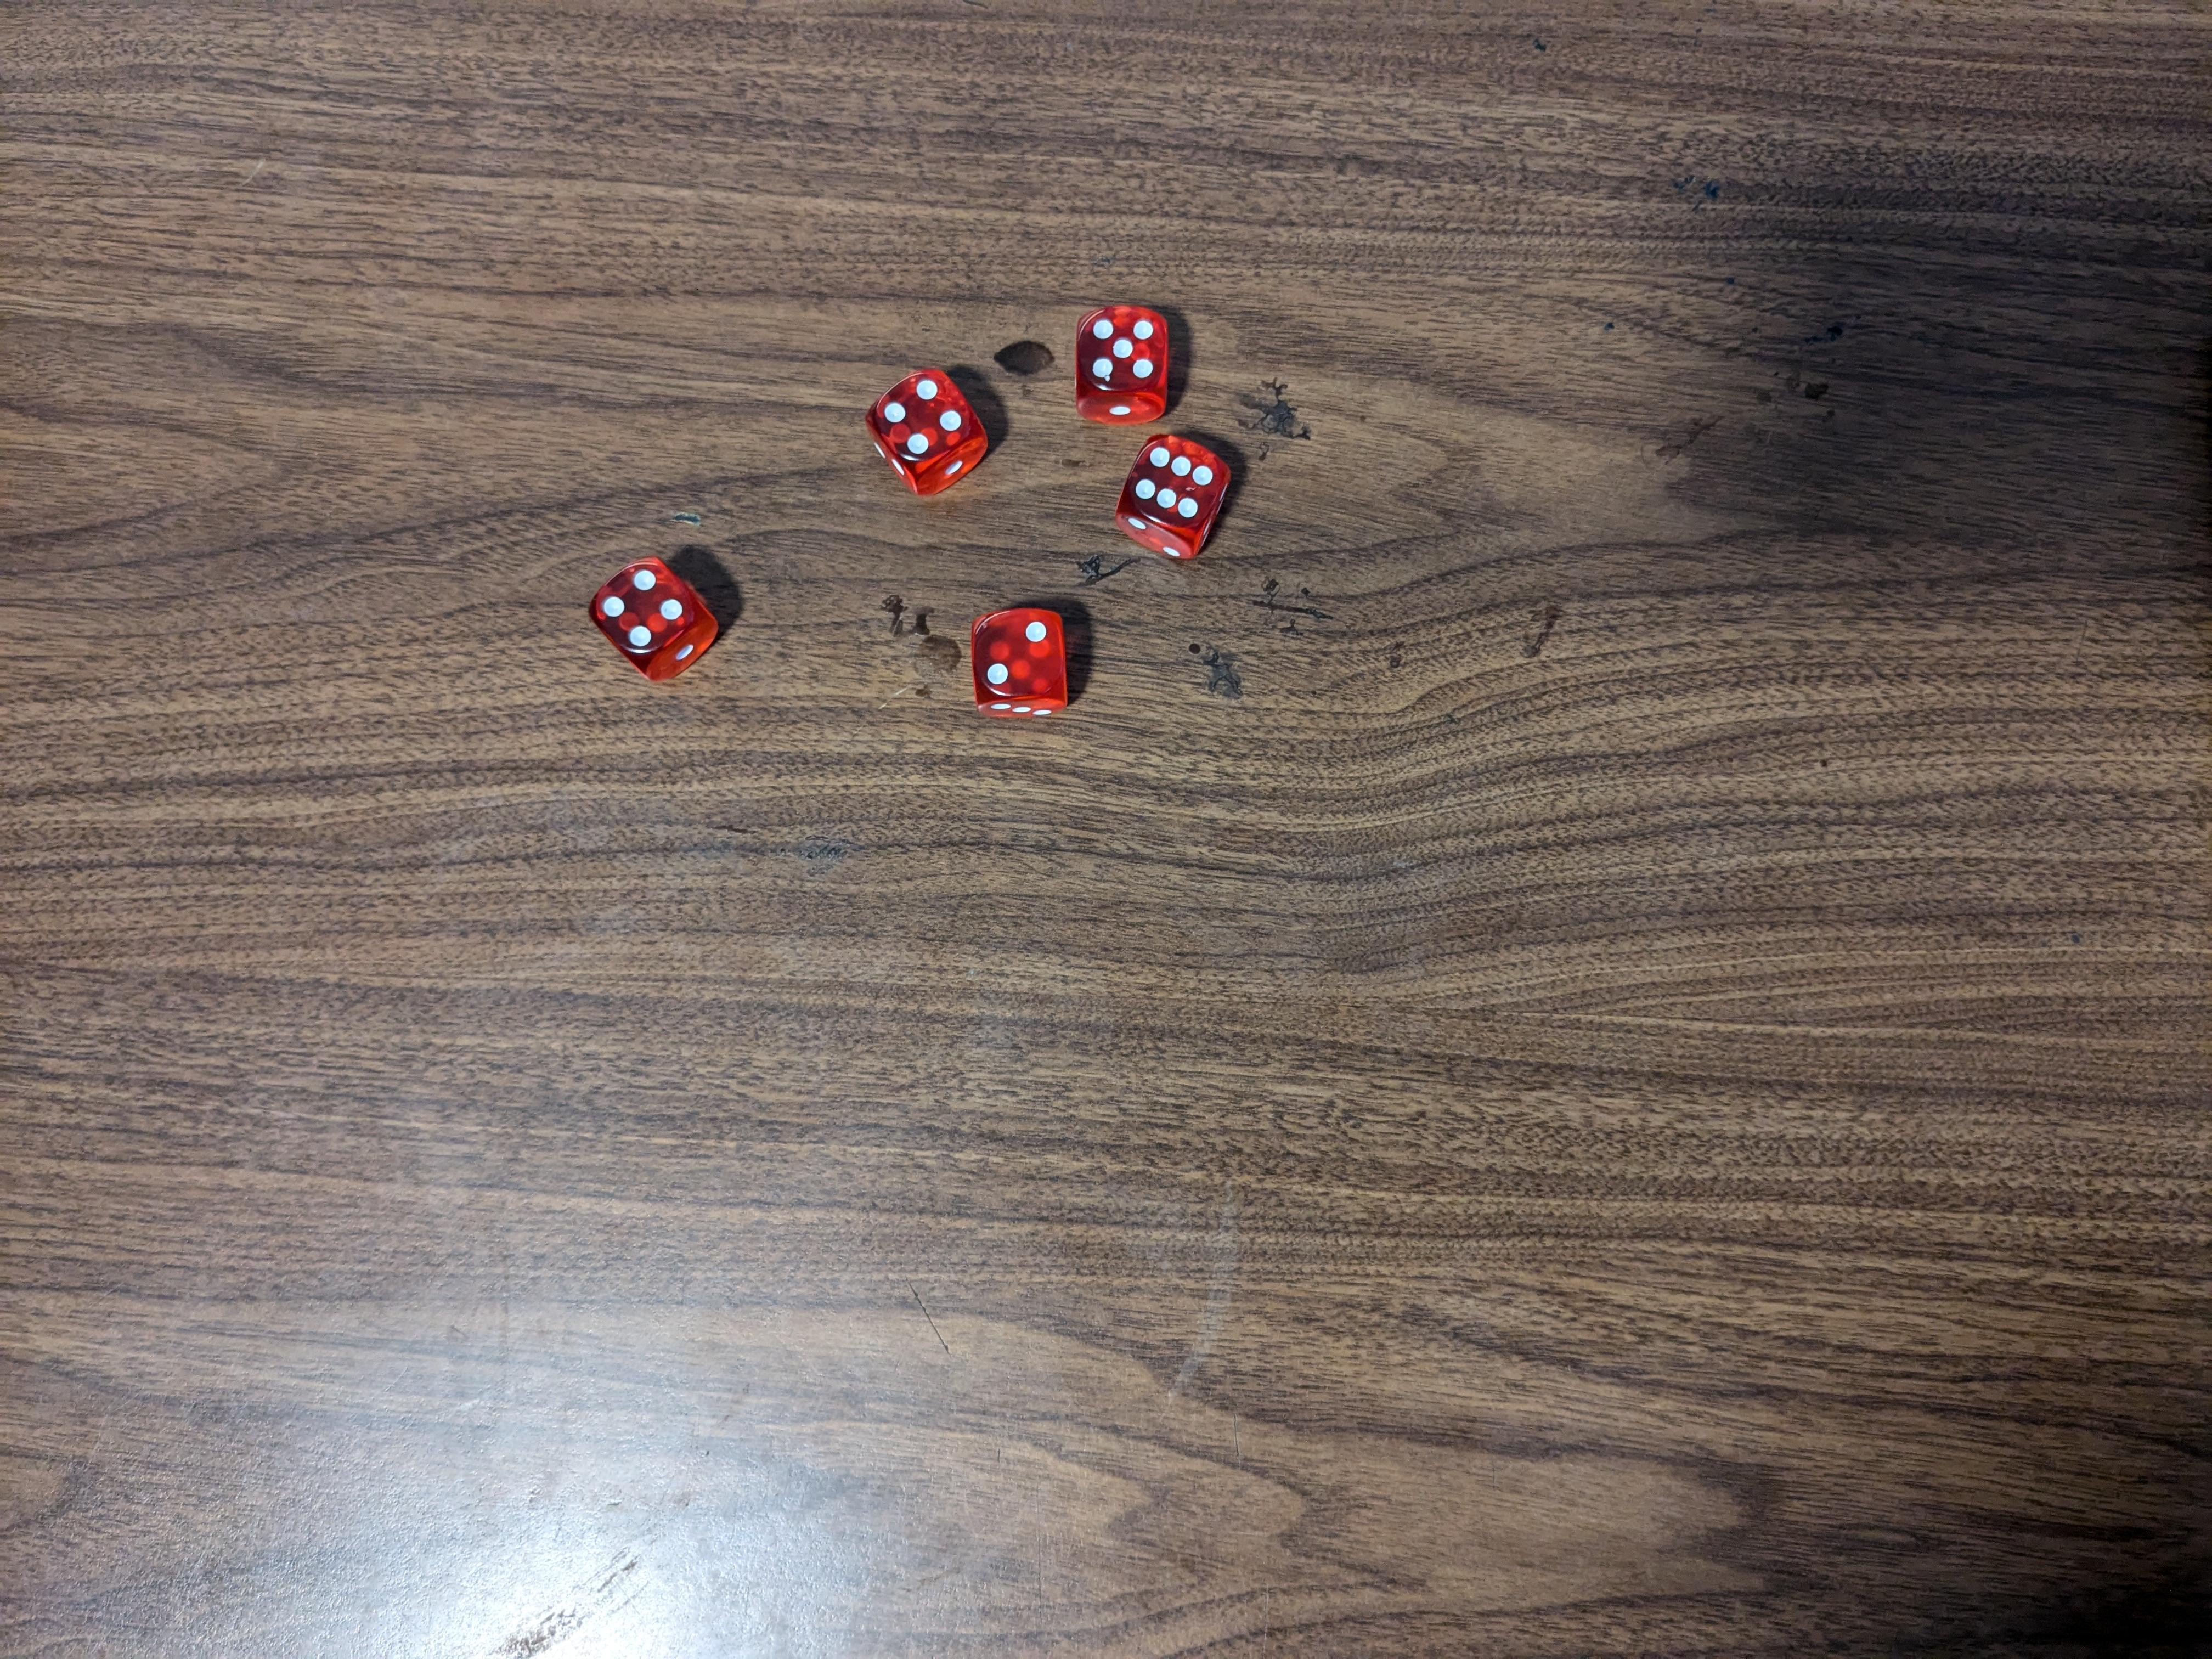five: (1071, 303, 1181, 423)
four: (583, 549, 721, 680), (864, 368, 998, 500)
six: (1120, 434, 1237, 561)
two: (968, 601, 1071, 718)
